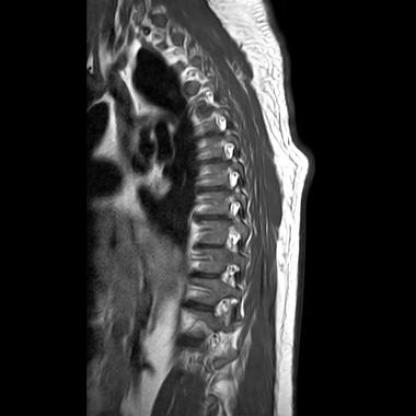Disc Protrusionrotation: (185, 90, 218, 115), (196, 126, 226, 143)
